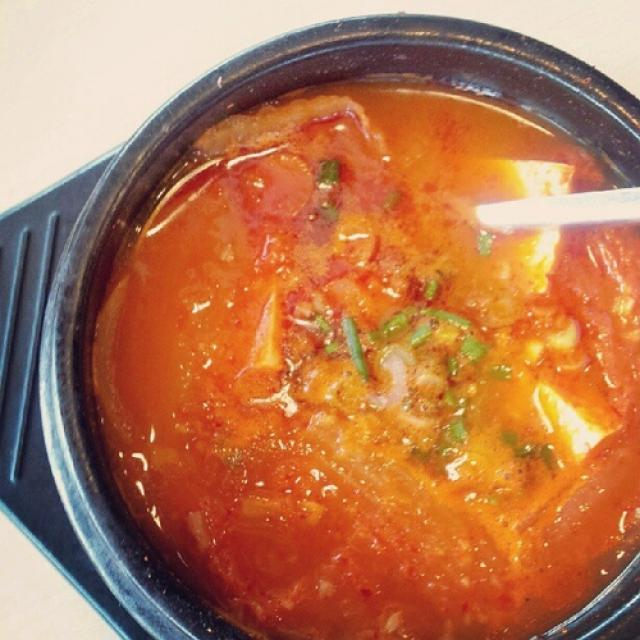汤锅炖物: (41, 10, 627, 634)
